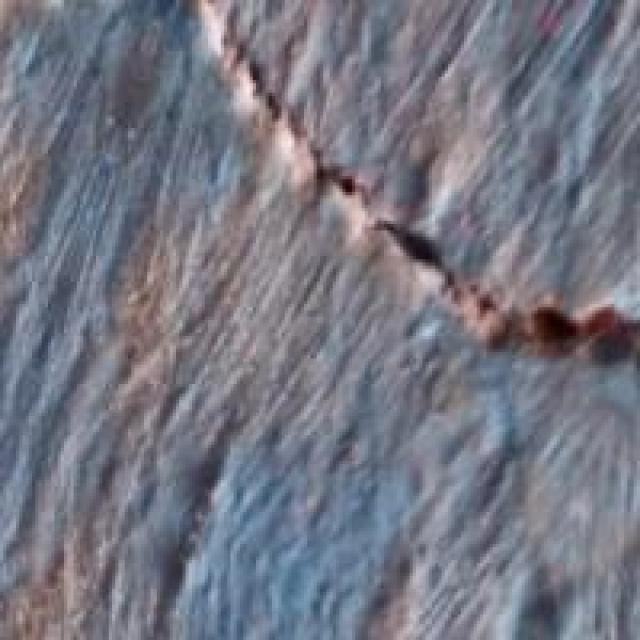Crack: (214, 0, 637, 448)
